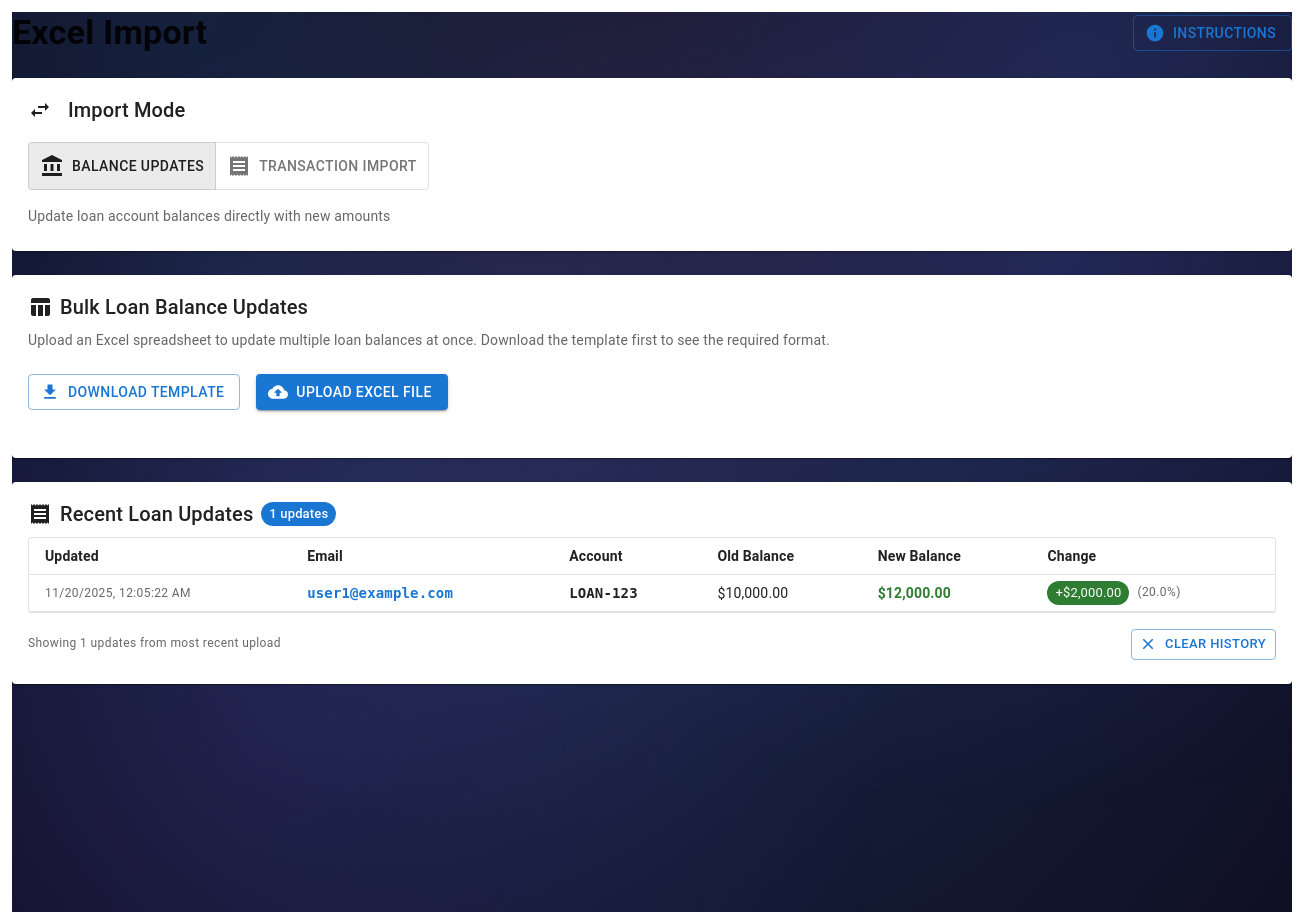
Test: ExcelUpload Component › Recent Updates › clears recent updates history
Expected: the text "user1@example.com" is shown, [291,574,553,612]
Step 1. Click the button "Clear History" → point(1204, 644), box [1131,629,1276,660]
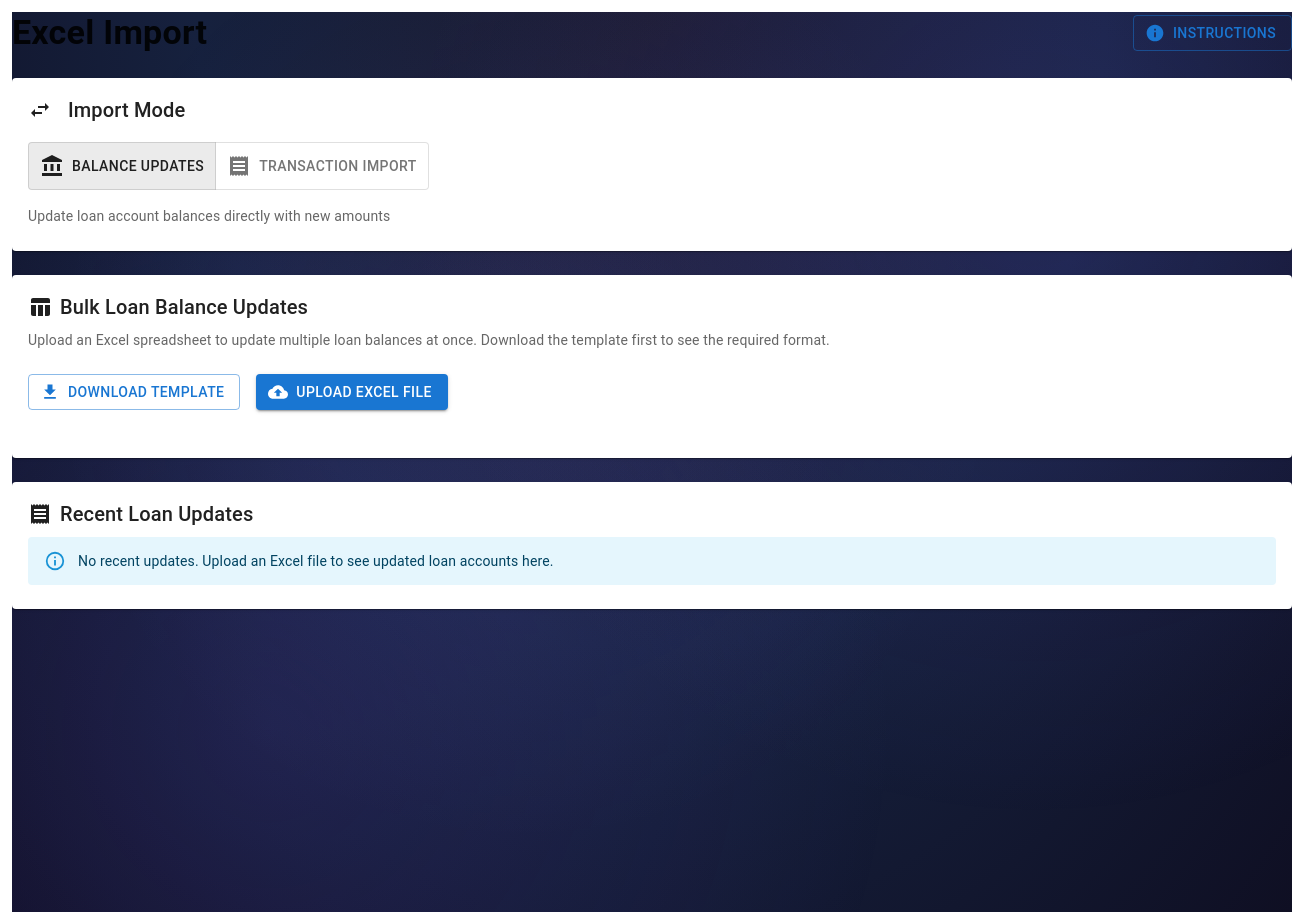
Expected: the text "No recent updates. Upload an Excel file to see updated loan accounts here." is shown, [78,553,554,569]
